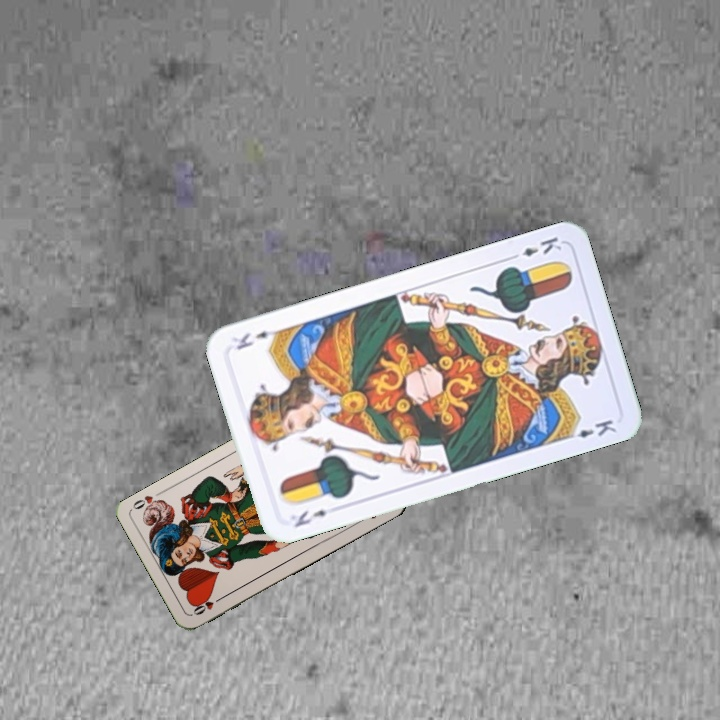EK: (505, 232, 564, 263), (290, 506, 330, 530)
HO: (189, 592, 226, 618)
